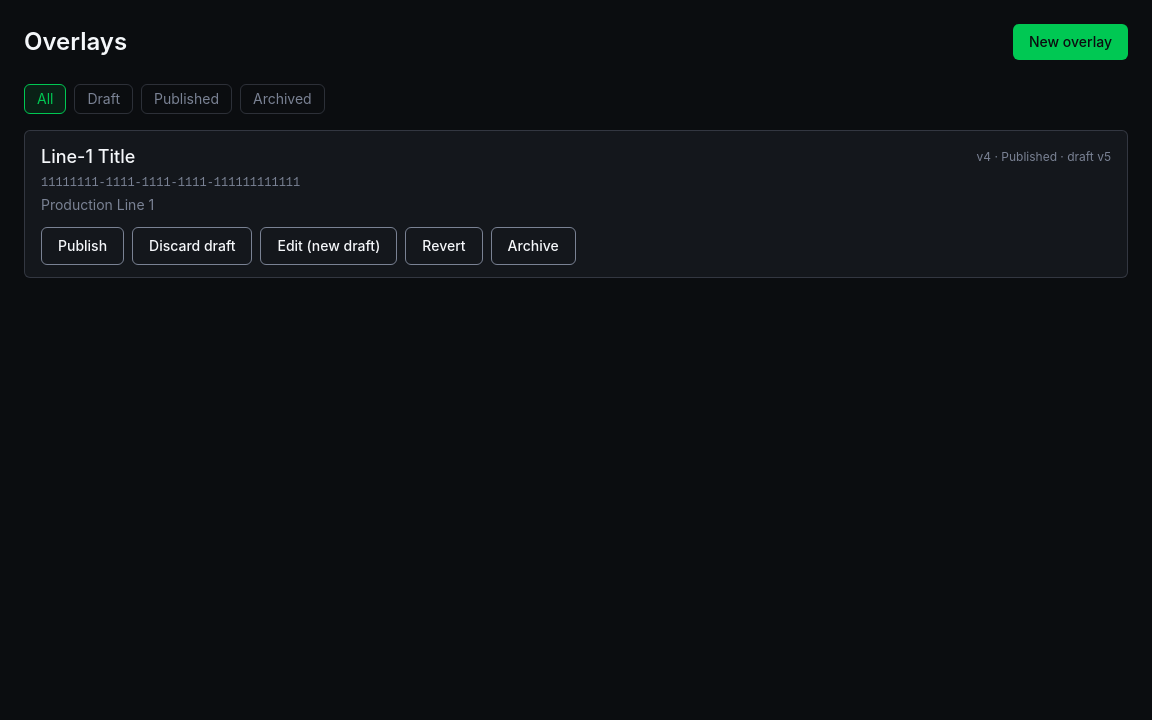
OverlaysPage — archive and discard on one chain › Names a different revision in each confirmation
Click the button "Archive".
click(533, 246)  # box top-left (491, 227), bottom-right (576, 265)
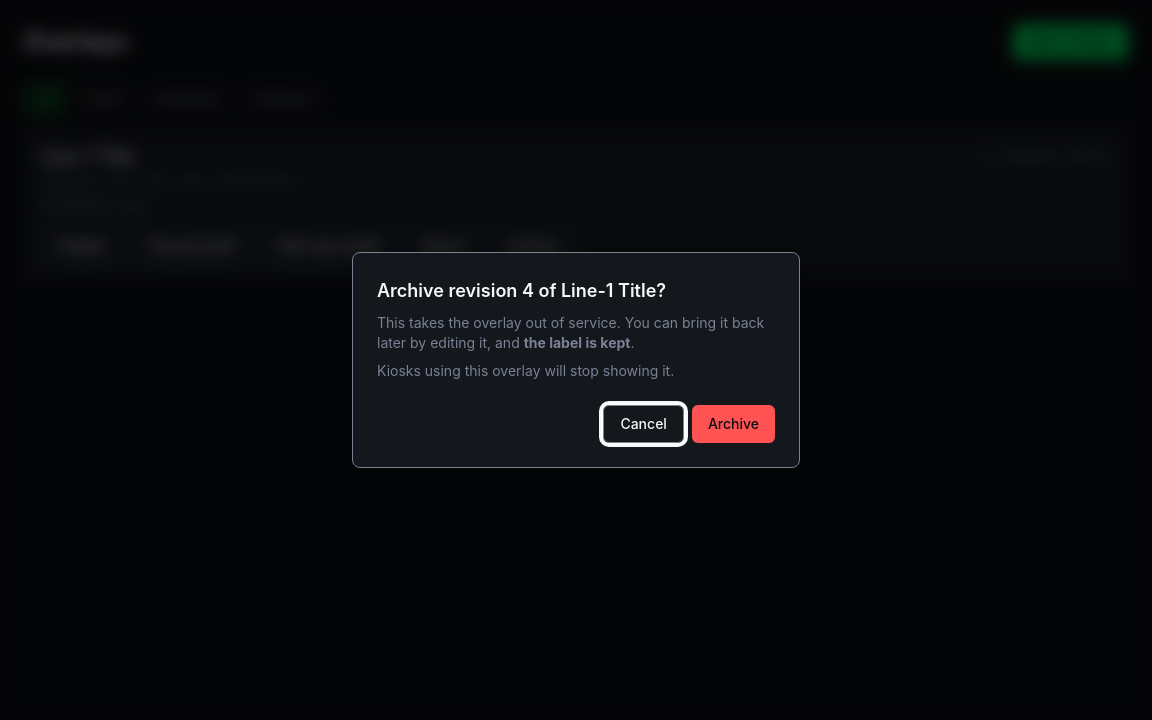
Expected: the dialog shows "revision 4", top-left (377, 280), bottom-right (666, 301)
Click the button "Cancel".
click(644, 424)  # box top-left (603, 405), bottom-right (684, 443)
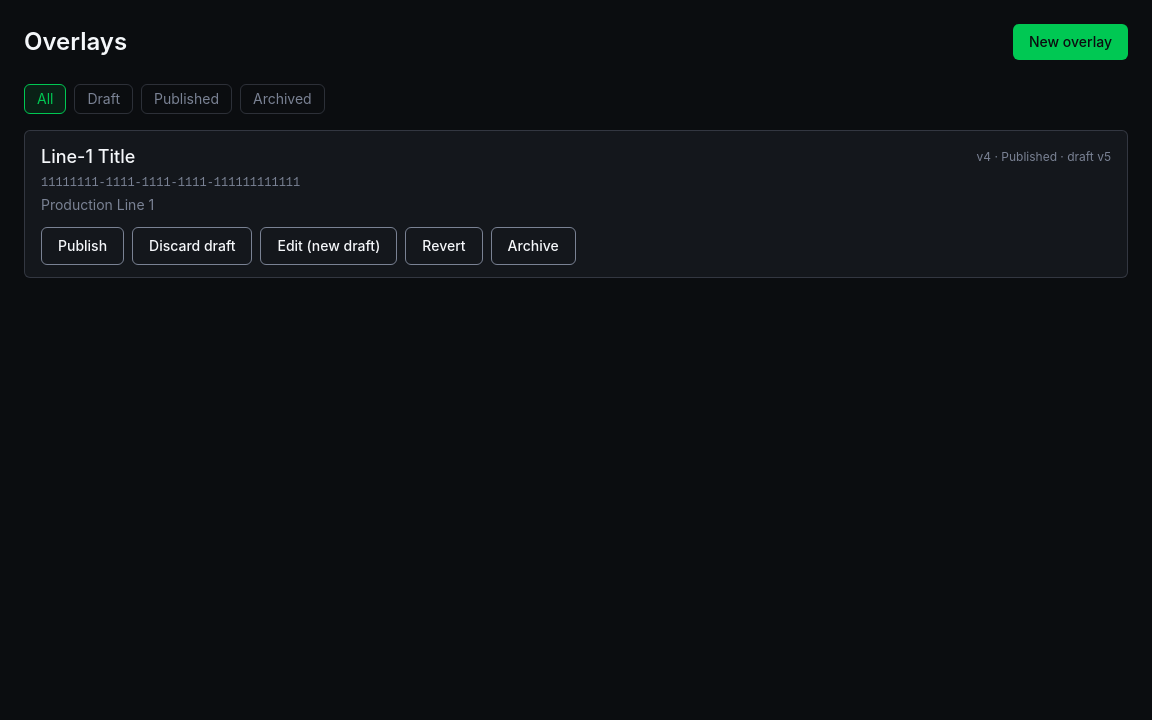
Click the button "Discard draft".
click(192, 246)  # box top-left (132, 227), bottom-right (252, 265)
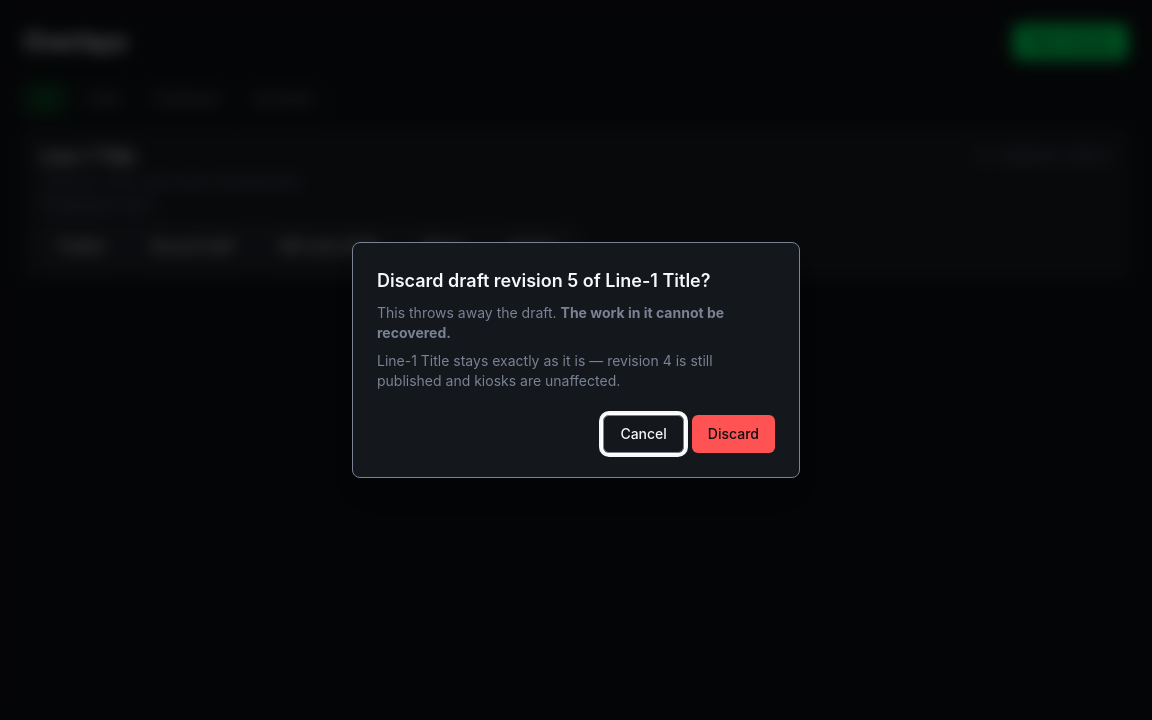
Expected: the dialog shows "draft revision 5", top-left (377, 270), bottom-right (710, 291)
